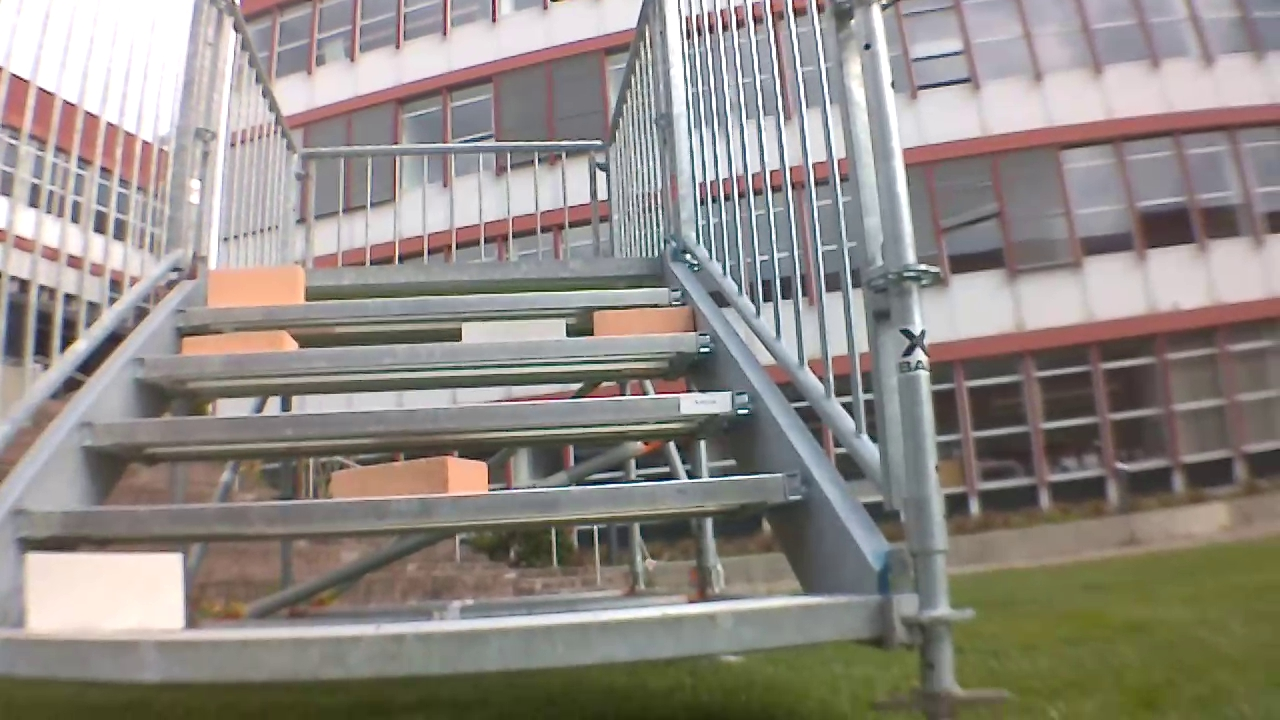brick: (25, 553, 182, 630), (331, 457, 488, 495), (208, 267, 303, 305), (595, 306, 693, 334), (183, 329, 295, 351), (463, 318, 565, 340)
edge: (1, 601, 889, 678), (14, 472, 809, 535), (78, 392, 754, 441), (130, 332, 712, 375), (176, 287, 684, 324), (190, 259, 660, 281)
stairs: (8, 3, 977, 714)
steps: (2, 250, 892, 684)
